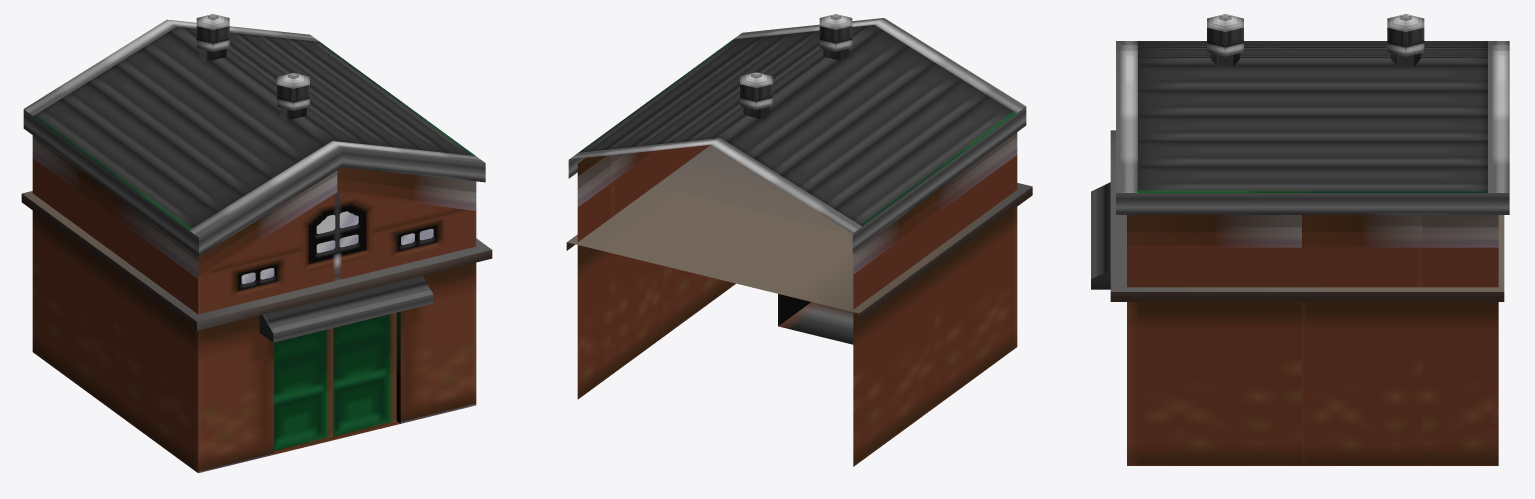
File: house_4.obj
3 views of the same model, side by side, from view 1: azimuth 30°, elevation 25°; view 2: azimuth 150°, elevation 25°; view 3: azimuth 270°, elevation 25° (orthographic). The views are drawn at different scales.
Visible parts, largest first — view 1: house_4; view 2: house_4; view 3: house_4.
Part boxes in pixels (bbox=[...]): house_4: bbox=[21, 14, 492, 473]; house_4: bbox=[566, 14, 1032, 466]; house_4: bbox=[1091, 14, 1509, 465].
Bounding box in the file's own units: 1.12 × 1.21 × 1.31.
1 material, 1 textured.
